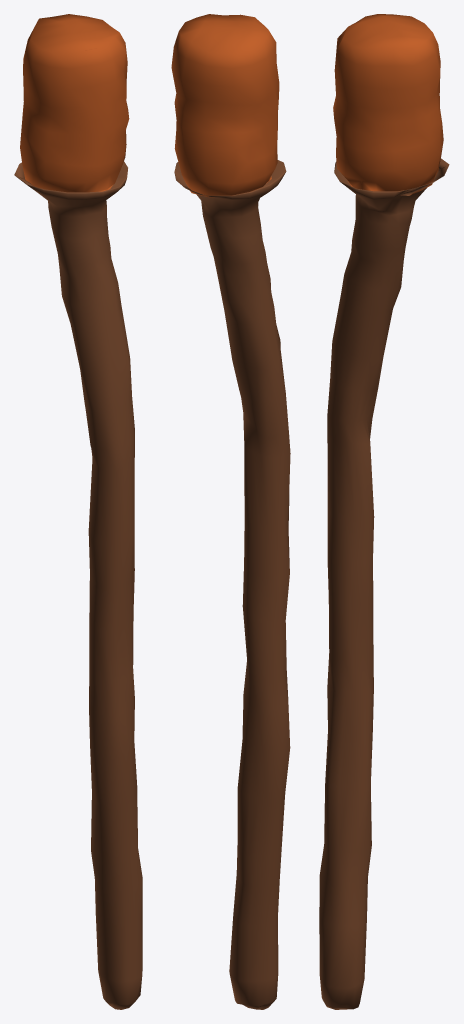
The model's file is obor.fbx.
3 views of the same model, side by side, from view 1: azimuth 90°, elevation 25°; view 2: azimuth 150°, elevation 25°; view 3: azimuth 270°, elevation 25° (orthographic). The views are drawn at different scales.
Visible parts, largest first — view 1: obor; view 2: obor; view 3: obor.
Boxes of the visible parts, <box> form: obor: <box>14,14,142,1009</box>; obor: <box>171,14,290,1009</box>; obor: <box>319,14,449,1009</box>.
Size of the model in its own units: 335 by 3379 by 405.
